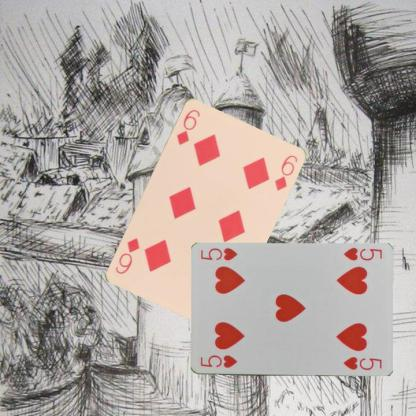5h: (341, 245, 383, 262), (198, 353, 238, 369)
6d: (173, 106, 201, 146)
